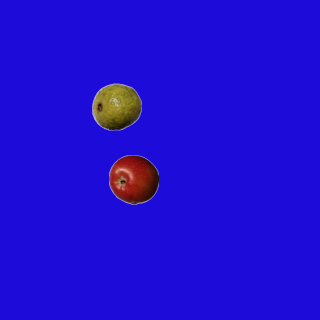Apple Braeburn: (108, 154, 158, 204)
Guava: (91, 81, 141, 131)
